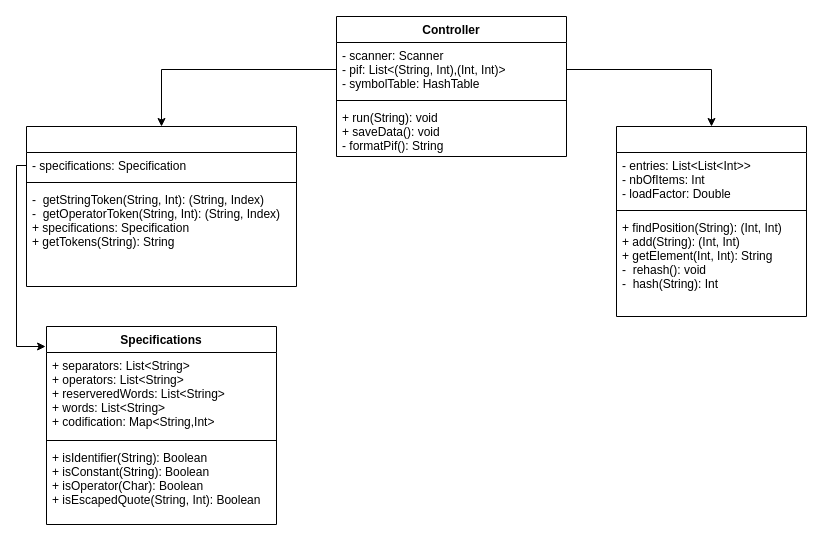
Some shapes in this 823 by 541 pixel diagram are drawn without their labels. Each missing label, with the box of its shape:
HashTable: (616, 126, 806, 316)
Scanner: (26, 126, 296, 286)
